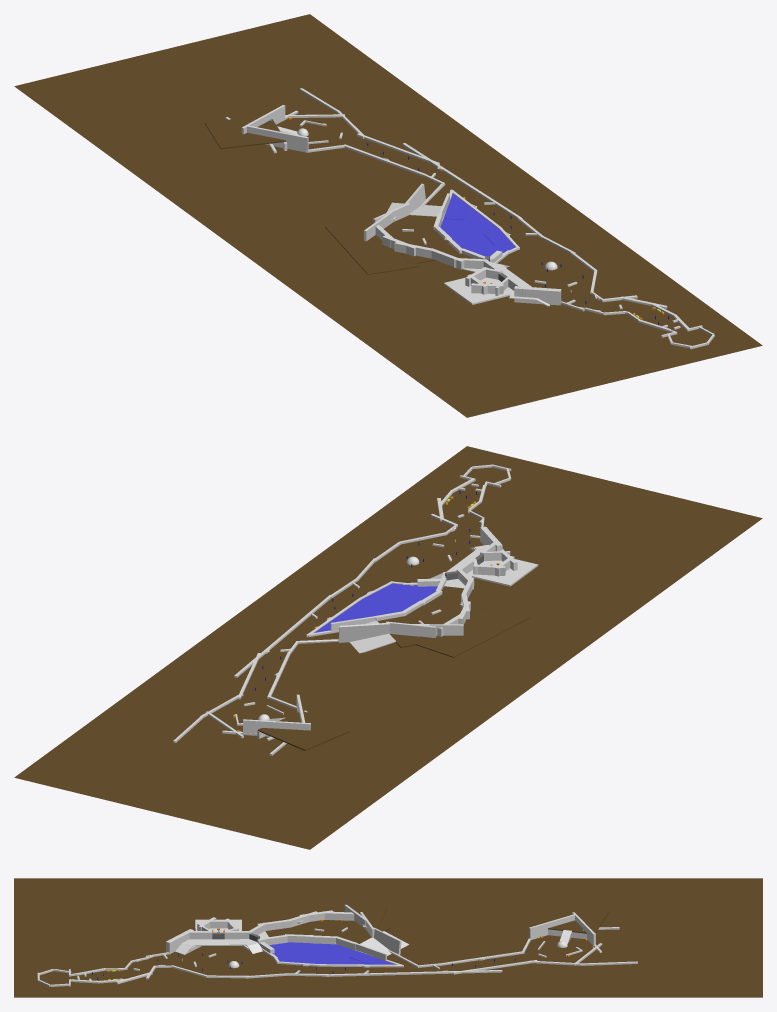
The model's file is LVL1_BO.fbx.
3 renders of one model, top to bottom at view 1: azimuth 30°, elevation 25°; view 2: azimuth 150°, elevation 25°; view 3: azimuth 270°, elevation 25°, orthographic. The views are drawn at different scales.
Parts seen in each view (by area): view 1: Plane, Cube.069, Cube.060, Cube.033, Cube.042, Cube.076, Cube.044, Cube.049; view 2: Plane, Cube.069, Cube.033, Cube.060, Cube.042, Cube.067, Cube.076; view 3: Plane, Cube.069, Cube.060, Cube.033, Cube.073, Cube.054, Cube.076, Cube.049, Cube.067, Cube.080, Cube.063, Cube.044 (+9 smaller).
Part boxes in pixels (x1,y1,x2,y2): Plane: [14, 14, 762, 417]; Cube.069: [325, 219, 419, 274]; Cube.060: [384, 217, 456, 263]; Cube.033: [204, 116, 285, 149]; Cube.042: [444, 277, 514, 304]; Cube.076: [444, 219, 502, 256]; Cube.044: [514, 286, 561, 305]; Cube.049: [246, 125, 308, 150]; Plane: [14, 446, 762, 849]; Cube.069: [411, 603, 530, 657]; Cube.033: [257, 711, 350, 750]; Cube.060: [389, 596, 487, 638]; Cube.042: [467, 559, 538, 586]; Cube.067: [338, 623, 390, 642]; Cube.076: [360, 585, 422, 617]; Plane: [14, 878, 762, 997]; Cube.069: [281, 900, 386, 926]; Cube.060: [285, 917, 364, 941]; Cube.033: [548, 905, 609, 933]; Cube.073: [280, 943, 358, 961]; Cube.054: [326, 970, 502, 976]; Cube.076: [275, 950, 355, 957]; Cube.049: [529, 914, 574, 939]; Cube.067: [374, 927, 401, 954]; Cube.080: [311, 958, 383, 965]; Cube.063: [360, 931, 408, 955]; Cube.044: [166, 929, 193, 953].
Bounding box in the file's own units: 31551 × 3876 × 83651.
